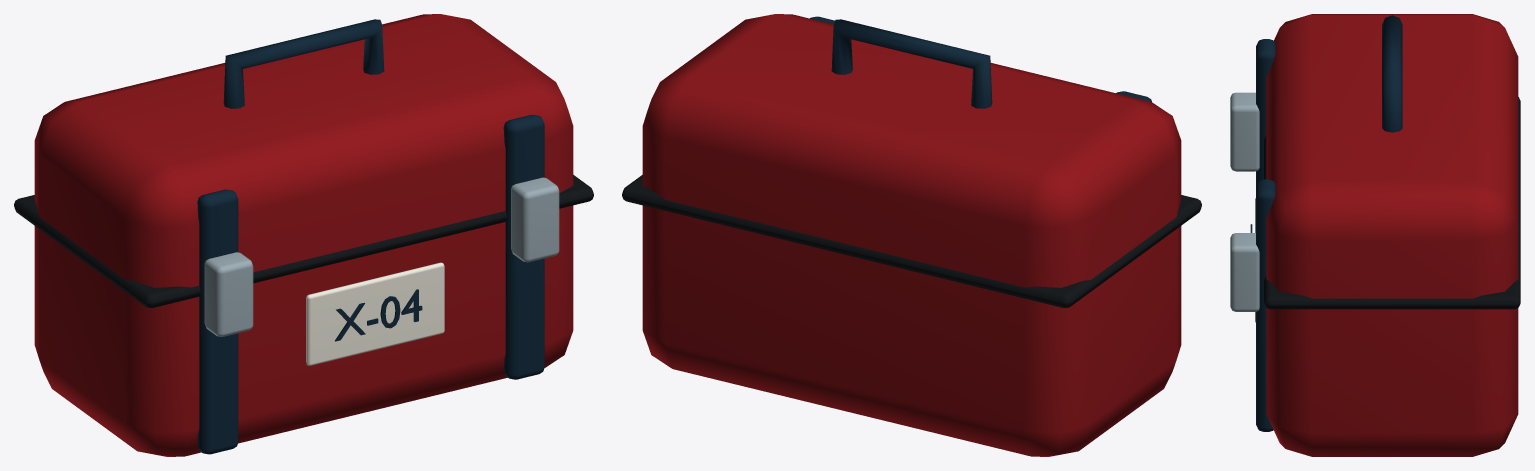
File: sabotage-case.glb
3 renders of one model, left to right at view 1: azimuth 30°, elevation 25°; view 2: azimuth 150°, elevation 25°; view 3: azimuth 270°, elevation 25°, orthographic. The views are drawn at different scales.
Parts seen in each view (by area): view 1: sabotage-case; view 2: sabotage-case; view 3: sabotage-case.
Part boxes in pixels (x1=…): sabotage-case: x1=14, y1=14, x2=593, y2=456; sabotage-case: x1=622, y1=14, x2=1201, y2=456; sabotage-case: x1=1230, y1=14, x2=1520, y2=456.
Bounding box in the file's own units: 0.425 × 0.3109 × 0.2535.
